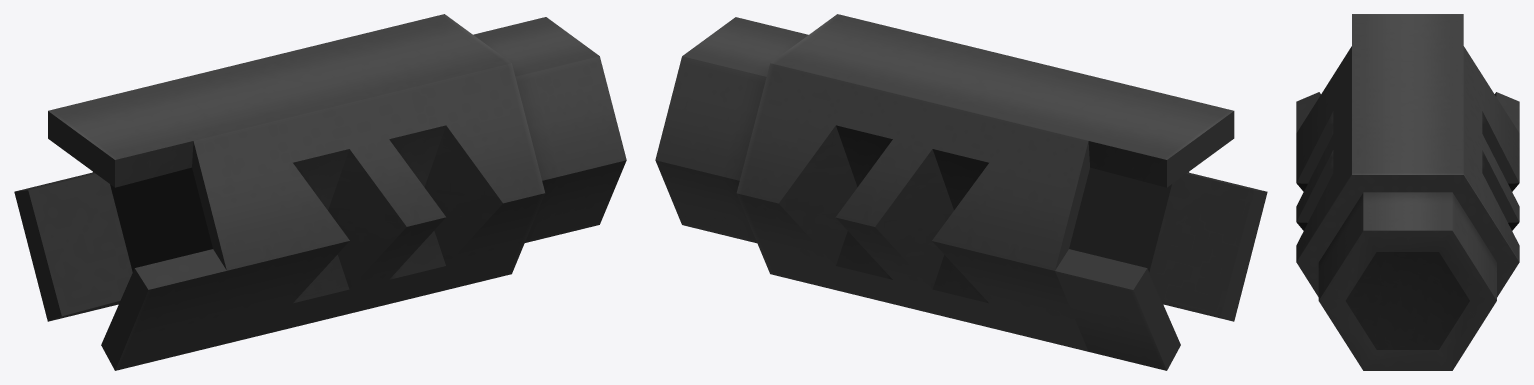
The model's file is Muzzles_Compensator_Base_0_Mod.FBX.
3 views of the same model, side by side, from view 1: azimuth 30°, elevation 25°; view 2: azimuth 150°, elevation 25°; view 3: azimuth 270°, elevation 25° (orthographic). The views are drawn at different scales.
Visible parts, largest first — view 1: Muzzles_Compensator_Base_0_Mod; view 2: Muzzles_Compensator_Base_0_Mod; view 3: Muzzles_Compensator_Base_0_Mod.
Part boxes in pixels (left/top/right/bottom): Muzzles_Compensator_Base_0_Mod: left=14, top=14, right=626, bottom=370; Muzzles_Compensator_Base_0_Mod: left=655, top=14, right=1267, bottom=370; Muzzles_Compensator_Base_0_Mod: left=1296, top=14, right=1519, bottom=370.
Size of the model in its own units: 13.23 by 5.42 by 6.26.
